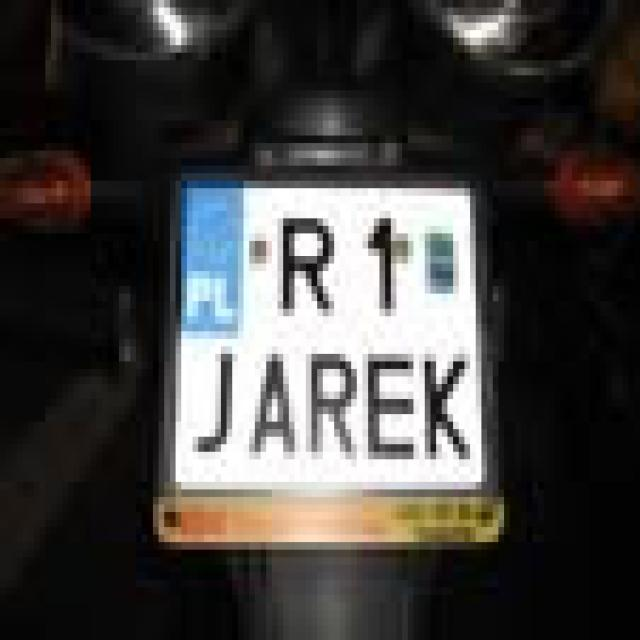pl_license_plate: (170, 173, 476, 474)
